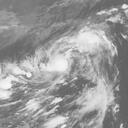cyclone: (35, 41, 74, 78)
